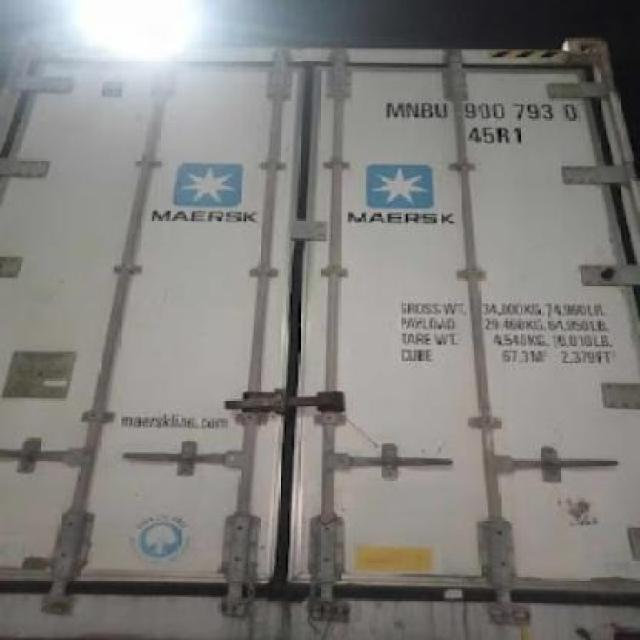ISO: (470, 126, 522, 146)
container_number: (387, 98, 577, 122)
